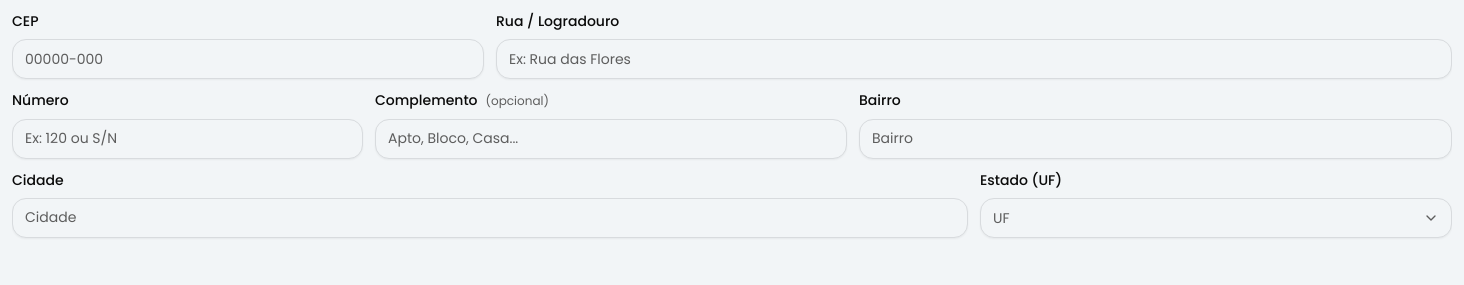
Scenario: AddressFields › displays message when CEP is not found
Type "00000000" into the field labelled "CEP" at (248, 59), box [12,39,484,79]
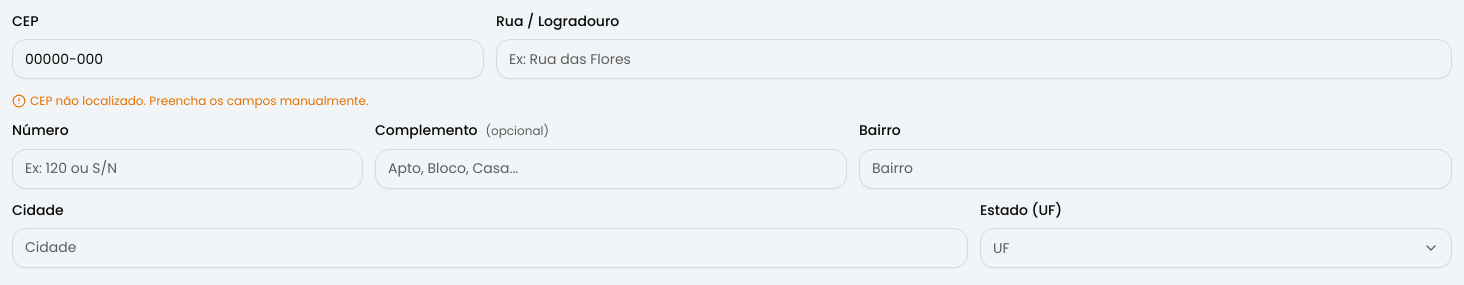
Result: the text "CEP não localizado. Preencha os campos manualmente." is shown at [30,93,368,109]
